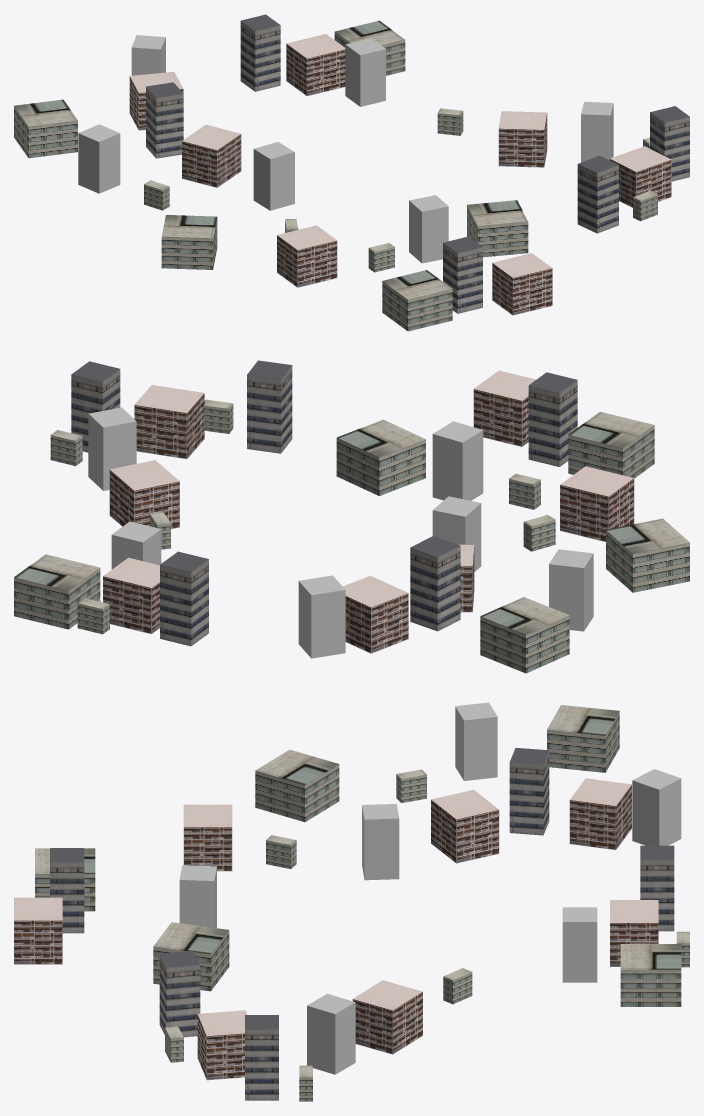
File: ciudad.obj
3 renders of one model, top to bottom at view 1: azimuth 30°, elevation 25°; view 2: azimuth 150°, elevation 25°; view 3: azimuth 270°, elevation 25°, orthographic. The views are drawn at different scales.
Visible parts, largest first — view 1: Edificio.5.1_Cube.007, Edificio.5.2_Cube.008, Edificio.3.1_Cube.021, Edificio.3.4_Cube.024, Edificio.3.5_Cube.025, Edificio.3.6_Cube.026, Edificio.5.4_Cube.014, Edificio.5.3_Cube.009, Edificio.1.2_Cube.011, Edificio.1.4_Cube.013, Edificio.3.2_Cube.022, Edificio.1.1_Cube.010 (+15 smaller); view 2: Edificio.5.2_Cube.008, Edificio.5.4_Cube.014, Edificio.5.3_Cube.009, Edificio.5_Cube.006, Edificio.5.1_Cube.007, Edificio.3.4_Cube.024, Edificio.3_Cube.004, Edificio.1.1_Cube.010, Edificio.1.4_Cube.013, Edificio.3.3_Cube.023, Edificio.1_Cube.002, Edificio.1.2_Cube.011 (+17 smaller); view 3: Edificio.5.3_Cube.009, Edificio.5.2_Cube.008, Edificio.3.6_Cube.026, Edificio.3.2_Cube.022, Edificio.3.3_Cube.023, Edificio.5_Cube.006, Edificio.4.4_Cube.030, Edificio.4.2_Cube.028, Edificio.1.1_Cube.010, Edificio.3.1_Cube.021, Edificio.1.2_Cube.011, Edificio.3.4_Cube.024 (+15 smaller).
Boxes of the visible parts, x1,y1,x2,y2 form: Edificio.5.1_Cube.007: (382,270,452,331); Edificio.5.2_Cube.008: (14,99,77,158); Edificio.3.1_Cube.021: (492,253,552,315); Edificio.3.4_Cube.024: (277,225,337,287); Edificio.3.5_Cube.025: (286,34,345,96); Edificio.3.6_Cube.026: (182,124,241,187); Edificio.5.4_Cube.014: (467,200,528,257); Edificio.5.3_Cube.009: (161,215,217,269); Edificio.1.2_Cube.011: (577,155,618,233); Edificio.1.4_Cube.013: (240,14,280,91); Edificio.3.2_Cube.022: (498,111,547,167); Edificio.1.1_Cube.010: (146,82,183,158); Edificio.5.2_Cube.008: (480,597,569,673); Edificio.5.4_Cube.014: (336,419,425,495); Edificio.5.3_Cube.009: (606,518,689,592); Edificio.5_Cube.006: (14,554,100,629); Edificio.5.1_Cube.007: (568,411,654,478); Edificio.3.4_Cube.024: (560,466,634,541); Edificio.3_Cube.004: (134,385,204,459); Edificio.1.1_Cube.010: (410,536,460,631); Edificio.1.4_Cube.013: (160,551,208,646); Edificio.3.3_Cube.023: (343,575,408,653); Edificio.1_Cube.002: (528,372,577,466); Edificio.1.2_Cube.011: (247,360,292,453); Edificio.5.3_Cube.009: (255,749,339,821); Edificio.5.2_Cube.008: (547,705,619,772); Edificio.3.6_Cube.026: (431,789,499,863); Edificio.3.2_Cube.022: (352,980,422,1054); Edificio.3.3_Cube.023: (569,778,631,849); Edificio.5_Cube.006: (620,944,681,1006); Edificio.4.4_Cube.030: (632,769,681,845); Edificio.4.2_Cube.028: (307,993,355,1074); Edificio.1.1_Cube.010: (509,748,549,835); Edificio.3.1_Cube.021: (14,897,62,964); Edificio.1.2_Cube.011: (159,950,200,1037); Edificio.3.4_Cube.024: (183,804,232,871).
Bounding box in the file's own units: 255 × 44.58 × 241.
